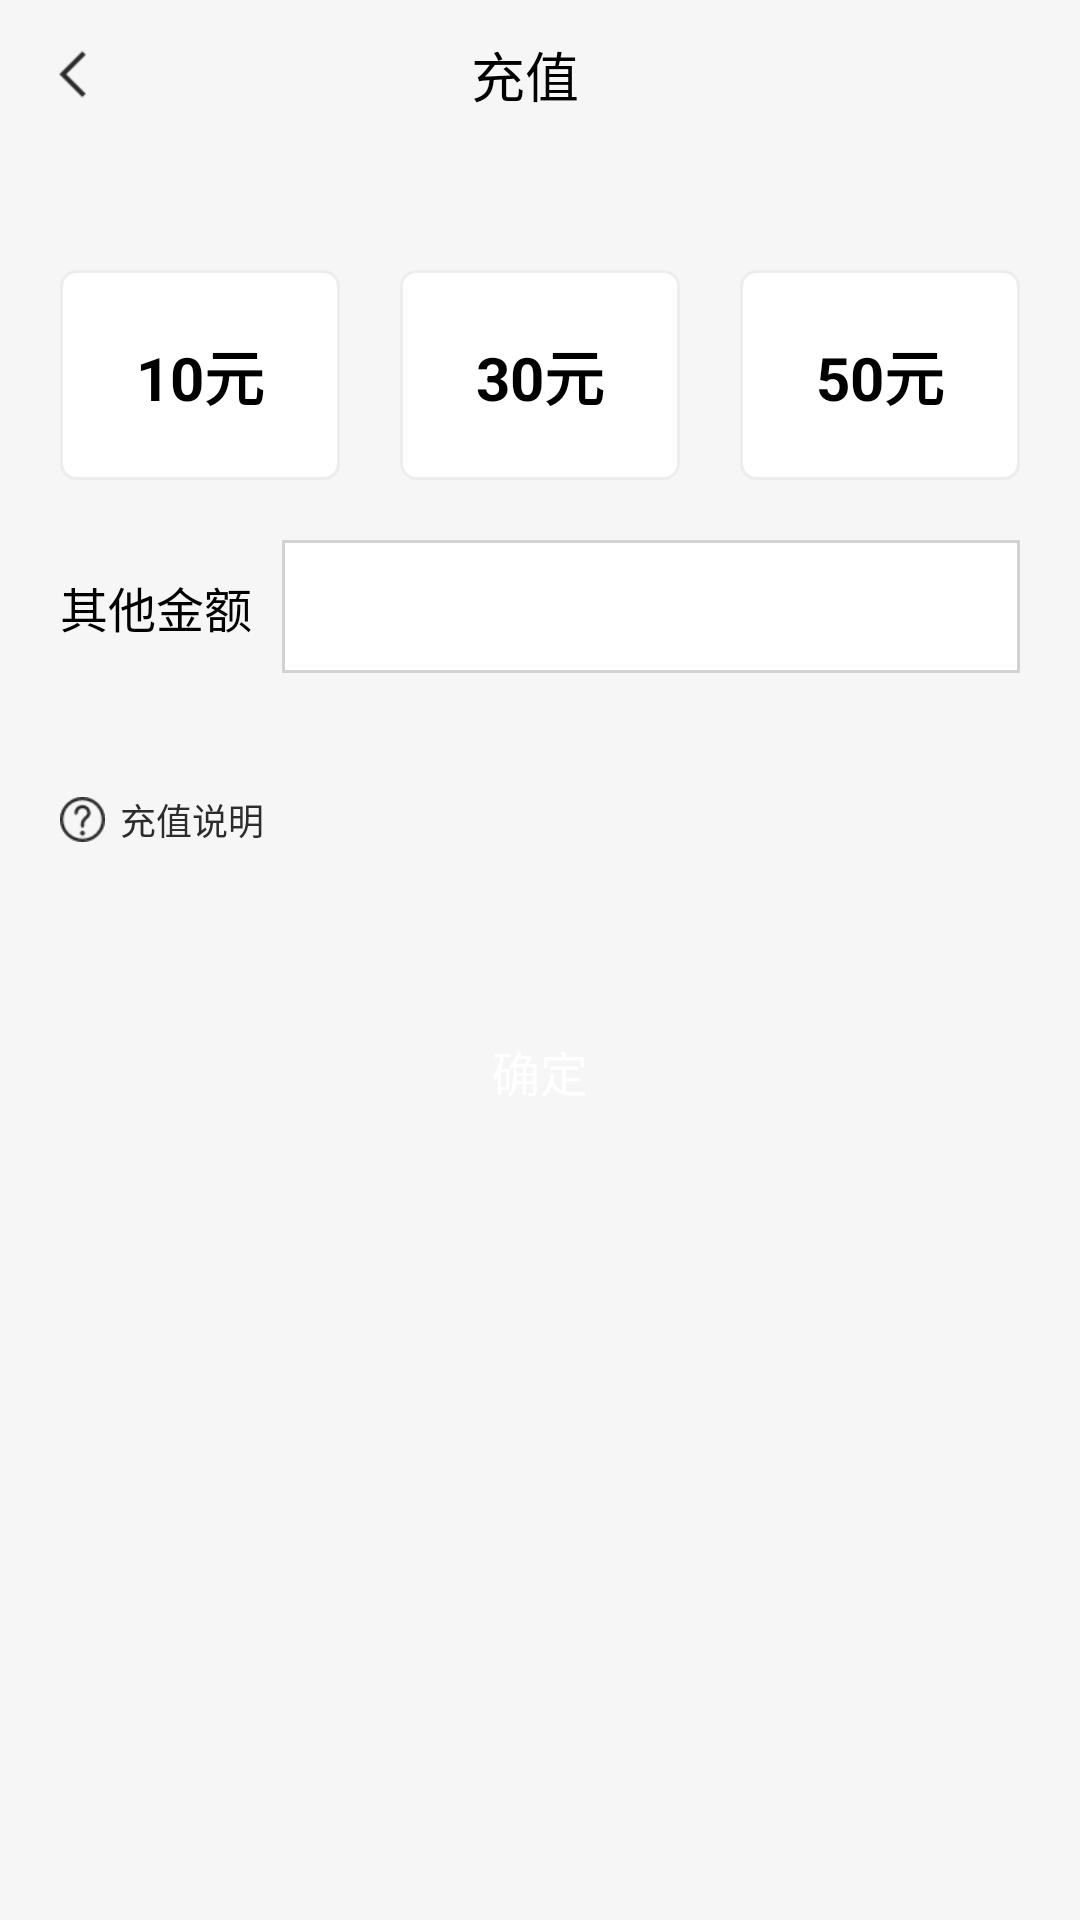

Icons on this 1080px×1920px Android screen, each with its box as (x1, y1, x2, y2):
mine tip: (60, 797, 105, 842)
